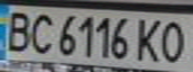1: (93, 14, 115, 58), (75, 12, 96, 57)
6: (109, 14, 136, 61), (54, 11, 78, 56)
B: (0, 8, 36, 54)
C: (24, 10, 57, 55)
K: (133, 15, 166, 63)
O: (154, 17, 190, 64)
